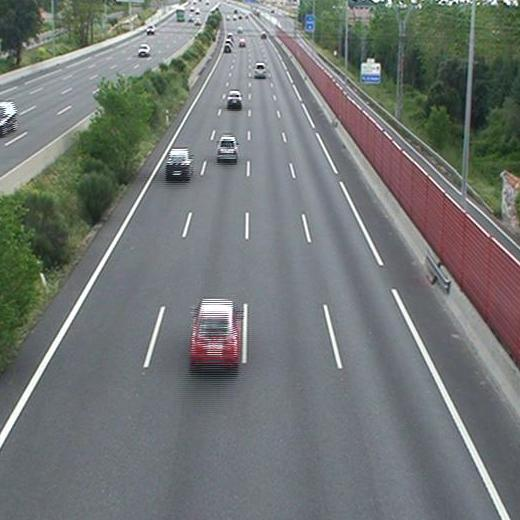car: (189, 300, 239, 362), (166, 150, 192, 178), (217, 137, 238, 159), (228, 90, 242, 107), (254, 63, 266, 76), (223, 43, 230, 53)
